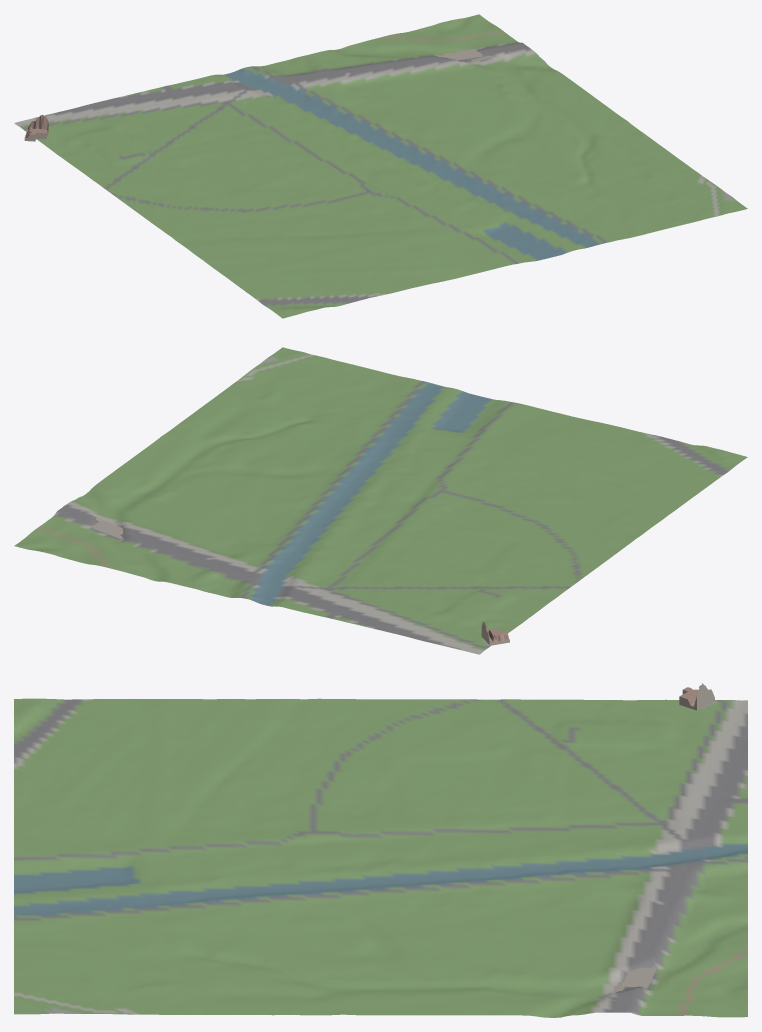
The picture shows the model from 3 angles, top to bottom: view 1: azimuth 30°, elevation 25°; view 2: azimuth 150°, elevation 25°; view 3: azimuth 270°, elevation 25°; orthographic projection. The views are drawn at different scales.
Parts seen in each view (by area): view 1: ground; view 2: ground; view 3: ground, b:way/210219935, bridges.
Boxes of the visible parts, x1,y1,x2,y2 form: ground: (14, 14, 747, 318); ground: (14, 347, 747, 654); ground: (14, 698, 747, 1017); b:way/210219935: (679, 683, 714, 710); bridges: (608, 966, 657, 1000).
Bounding box in the file's own units: 255 × 12.05 × 250.
